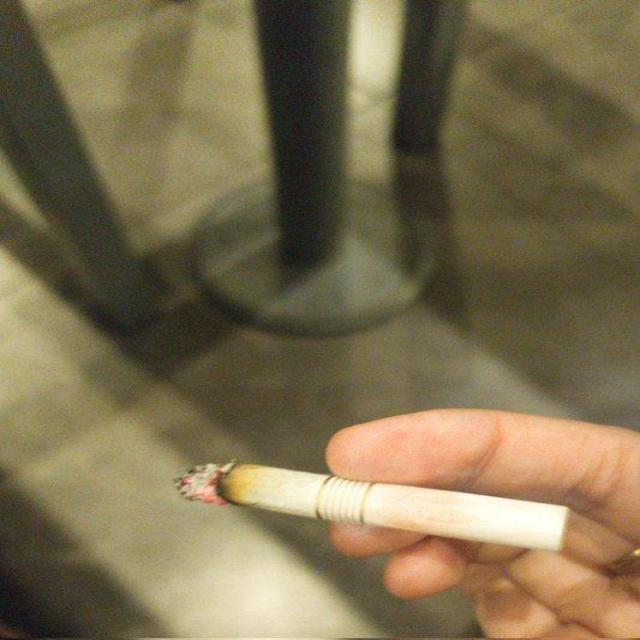Cigarette: (170, 458, 574, 553)
